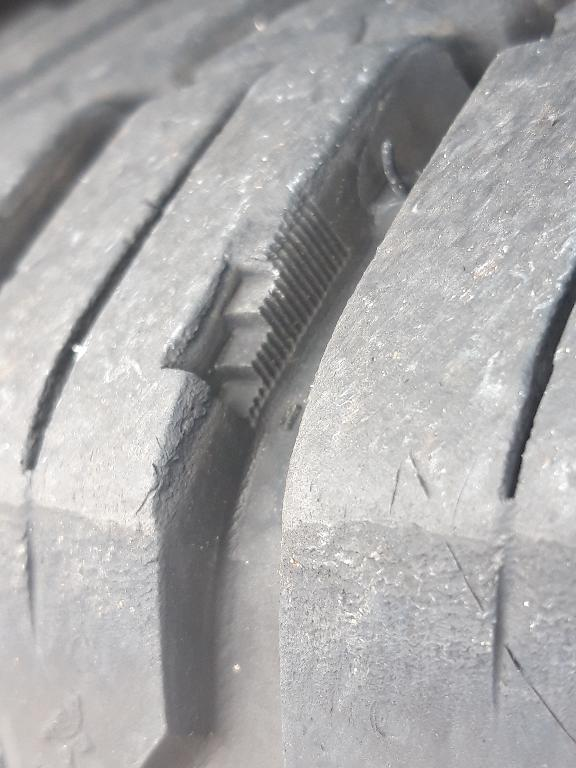temoin:80: (152, 171, 372, 440)
